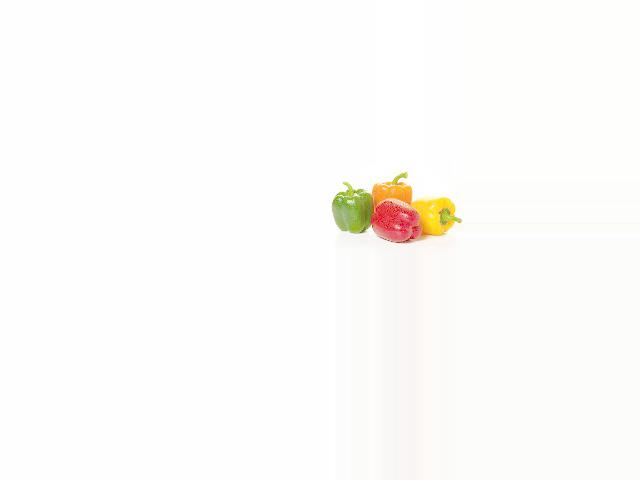bell_pepper: (331, 184, 376, 240)
